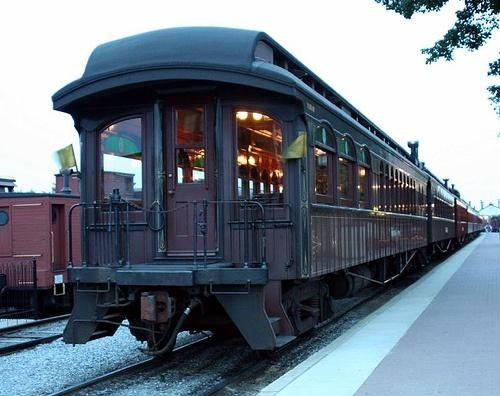train: (65, 25, 490, 355)
